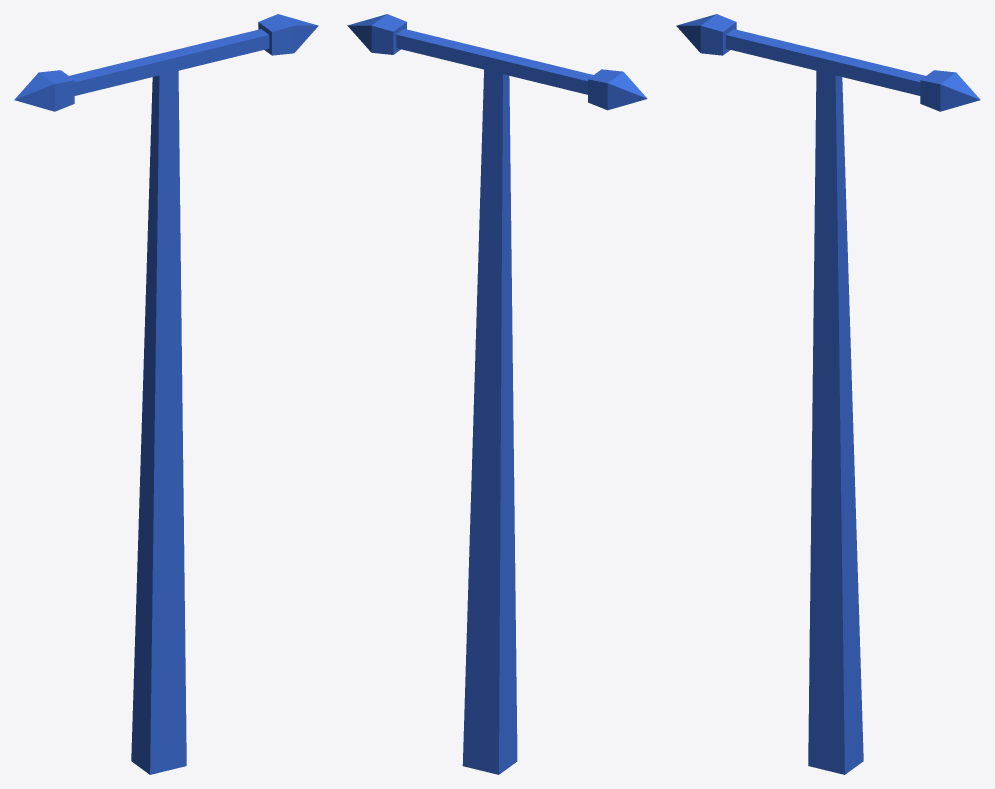
The model's file is Collision_Banner_Vertical_1.fbx.
3 renders of one model, left to right at view 1: azimuth 30°, elevation 25°; view 2: azimuth 150°, elevation 25°; view 3: azimuth 330°, elevation 25°, orthographic.
Visible parts, largest first — view 1: UCX_Banner_Vertical_1_1, UCX_Banner_Vertical_1_2, UCX_Banner_Vertical_1_4, UCX_Banner_Vertical_1_3; view 2: UCX_Banner_Vertical_1_1, UCX_Banner_Vertical_1_2, UCX_Banner_Vertical_1_4, UCX_Banner_Vertical_1_3; view 3: UCX_Banner_Vertical_1_1, UCX_Banner_Vertical_1_2, UCX_Banner_Vertical_1_3, UCX_Banner_Vertical_1_4.
Boxes of the visible parts, x1,y1,x2,y2 form: UCX_Banner_Vertical_1_1: [131, 71, 186, 774]; UCX_Banner_Vertical_1_2: [69, 29, 269, 95]; UCX_Banner_Vertical_1_4: [14, 70, 74, 111]; UCX_Banner_Vertical_1_3: [258, 14, 318, 55]; UCX_Banner_Vertical_1_1: [462, 68, 517, 774]; UCX_Banner_Vertical_1_2: [396, 29, 593, 94]; UCX_Banner_Vertical_1_4: [588, 69, 647, 110]; UCX_Banner_Vertical_1_3: [347, 14, 406, 54]; UCX_Banner_Vertical_1_1: [808, 71, 863, 774]; UCX_Banner_Vertical_1_2: [725, 29, 925, 95]; UCX_Banner_Vertical_1_3: [920, 70, 980, 111]; UCX_Banner_Vertical_1_4: [676, 14, 736, 55].
Size of the model in its own units: 104 by 235 by 14.75.
